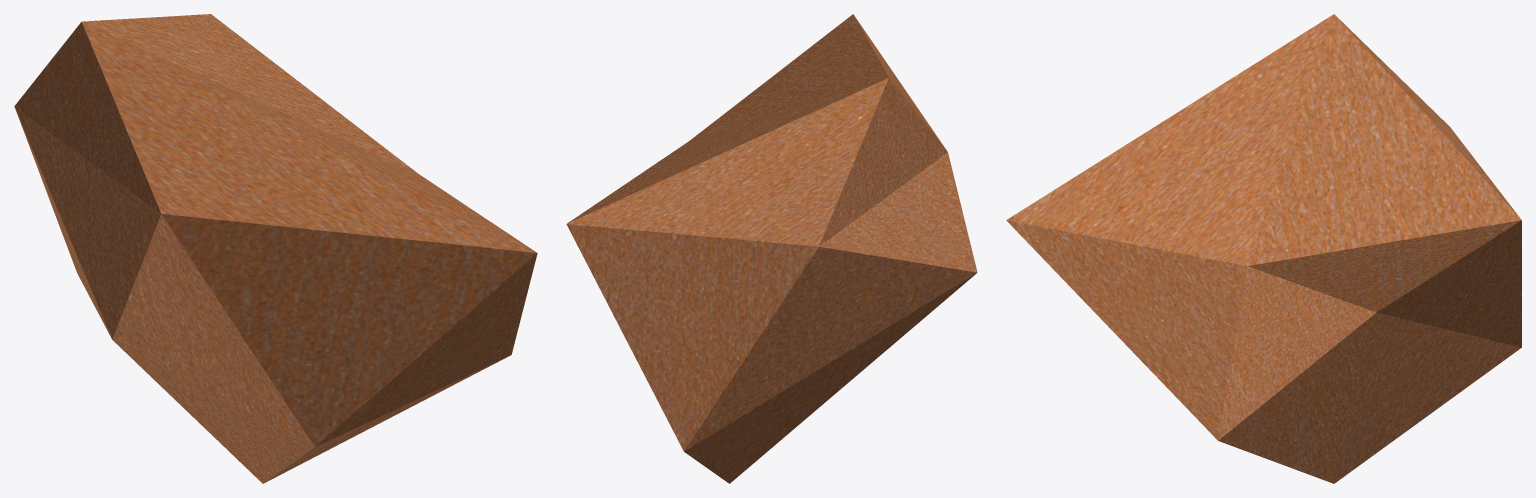
File: Scrap.fbx
The picture shows the model from 3 angles, left to right: view 1: azimuth 30°, elevation 25°; view 2: azimuth 150°, elevation 25°; view 3: azimuth 270°, elevation 25°; orthographic projection. The views are drawn at different scales.
Parts seen in each view (by area): view 1: Icosphere; view 2: Icosphere; view 3: Icosphere.
Part boxes in pixels (left/top/right/bottom): Icosphere: left=14, top=14, right=537, bottom=483; Icosphere: left=566, top=14, right=977, bottom=483; Icosphere: left=1006, top=14, right=1521, bottom=483.
Size of the model in its own units: 162 by 200 by 234.
